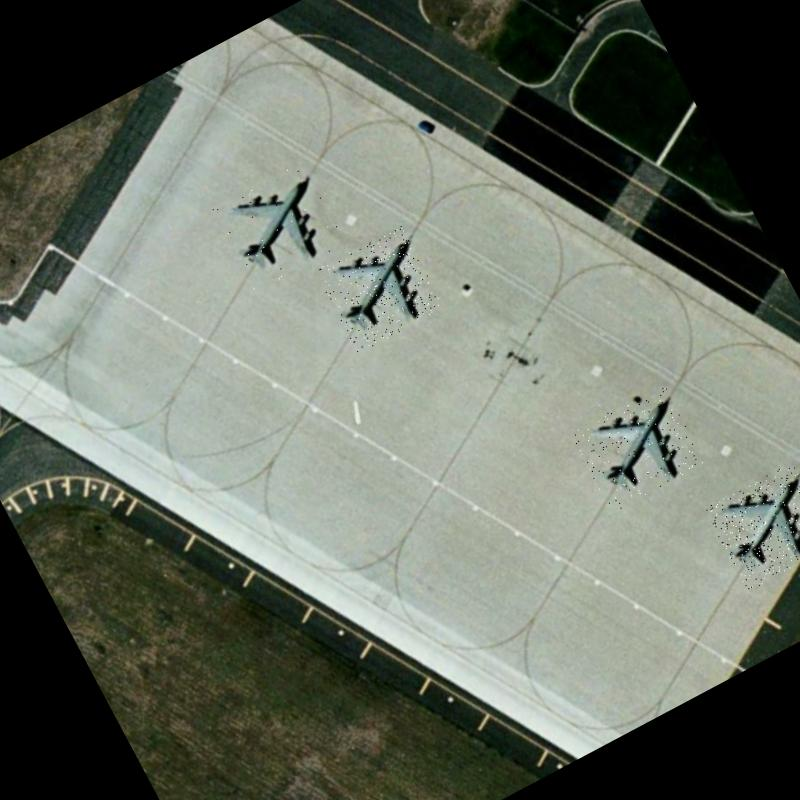A14: (209, 158, 346, 292), (569, 382, 706, 513), (314, 224, 445, 353), (703, 461, 800, 591)
